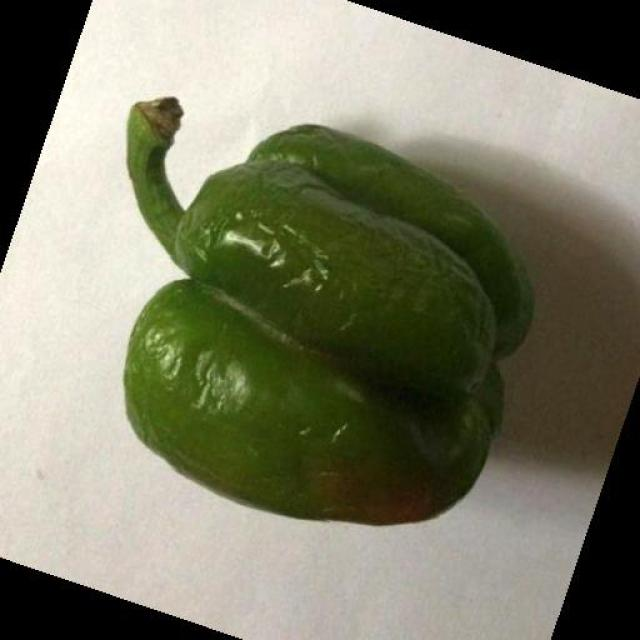Stale_Capsicum: (102, 70, 558, 552)
